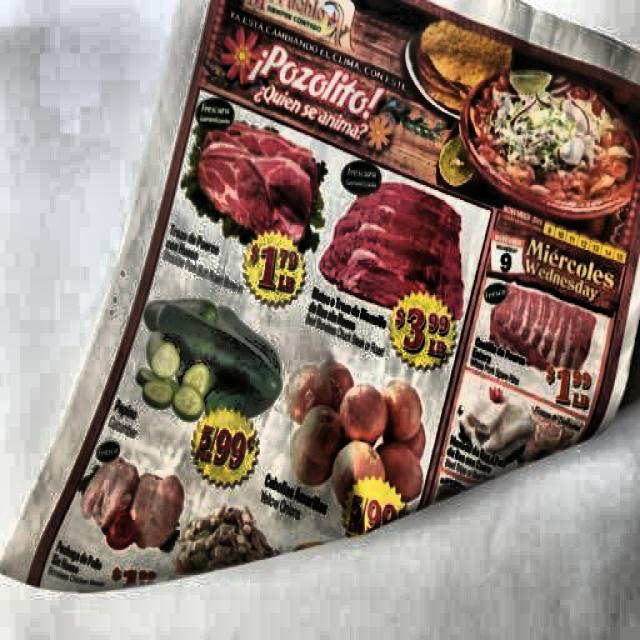paper: (41, 6, 634, 600)
